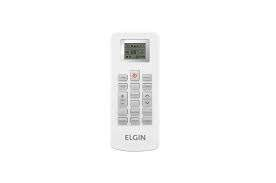remote control: (111, 33, 162, 153)
